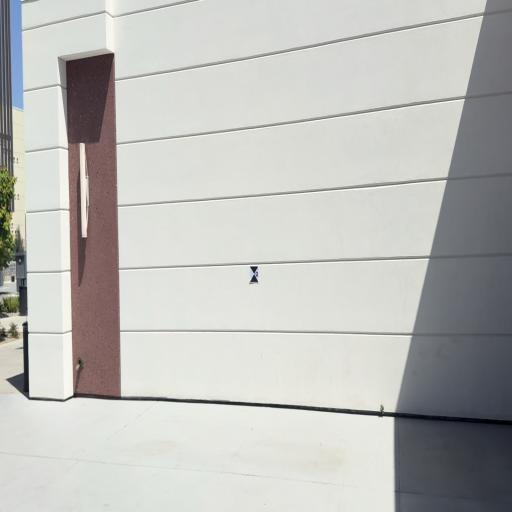target0: (249, 266, 259, 284)
